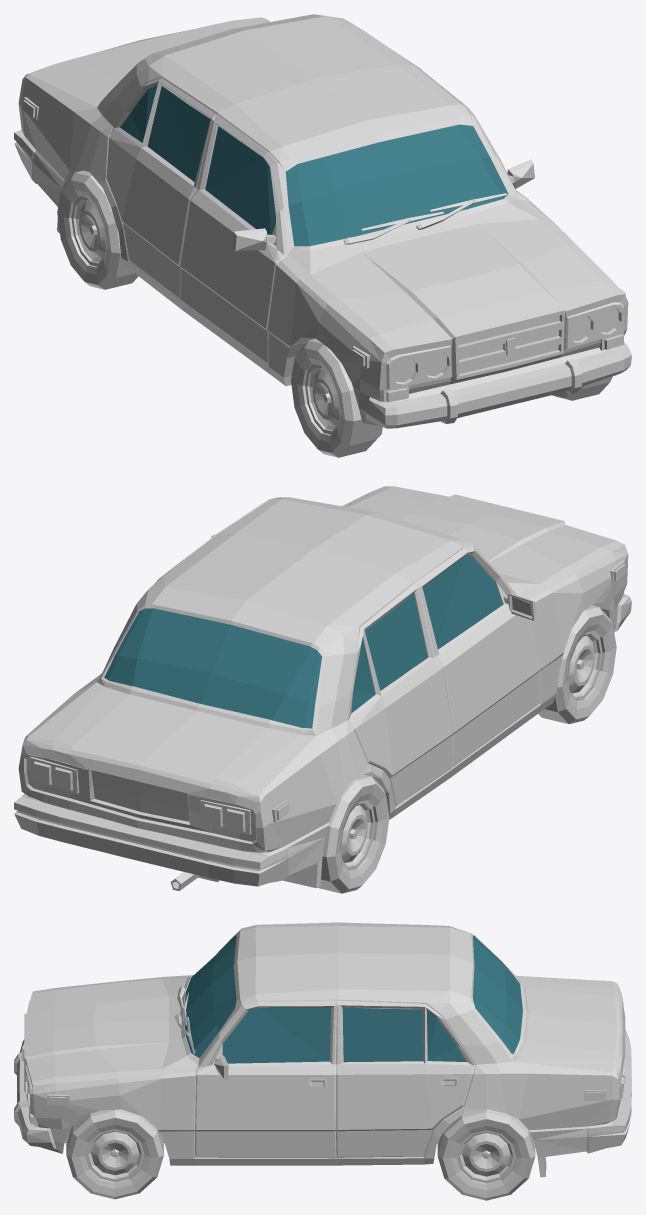
3 views of the same model, one above another, from view 1: azimuth 30°, elevation 25°; view 2: azimuth 150°, elevation 25°; view 3: azimuth 270°, elevation 25° (orthographic). The views are drawn at different scales.
Visible parts, largest first — view 1: SM_Veh_Car_Clean_01, SM_Veh_Car_Clean_01_Glass, SM_Veh_Car_Clean_01_Wheel_fr, SM_Veh_Car_Clean_01_Wheel_rr; view 2: SM_Veh_Car_Clean_01, SM_Veh_Car_Clean_01_Glass, SM_Veh_Car_Clean_01_Wheel_rr, SM_Veh_Car_Clean_01_Wheel_fr; view 3: SM_Veh_Car_Clean_01, SM_Veh_Car_Clean_01_Glass, SM_Veh_Car_Clean_01_Wheel_rl, SM_Veh_Car_Clean_01_Wheel_fl.
Boxes of the visible parts, <box> form: SM_Veh_Car_Clean_01: <box>14,14,631,428</box>; SM_Veh_Car_Clean_01_Glass: <box>120,84,507,246</box>; SM_Veh_Car_Clean_01_Wheel_fr: <box>291,338,382,457</box>; SM_Veh_Car_Clean_01_Wheel_rr: <box>57,170,138,289</box>; SM_Veh_Car_Clean_01: <box>14,486,631,890</box>; SM_Veh_Car_Clean_01_Glass: <box>104,555,502,728</box>; SM_Veh_Car_Clean_01_Wheel_rr: <box>317,774,389,893</box>; SM_Veh_Car_Clean_01_Wheel_fr: <box>538,605,616,724</box>; SM_Veh_Car_Clean_01: <box>14,922,631,1177</box>; SM_Veh_Car_Clean_01_Glass: <box>183,935,522,1063</box>; SM_Veh_Car_Clean_01_Wheel_rl: <box>437,1109,535,1200</box>; SM_Veh_Car_Clean_01_Wheel_fl: <box>66,1109,163,1199</box>.
Size of the model in its own units: 2.06 by 1.6 by 4.58.
